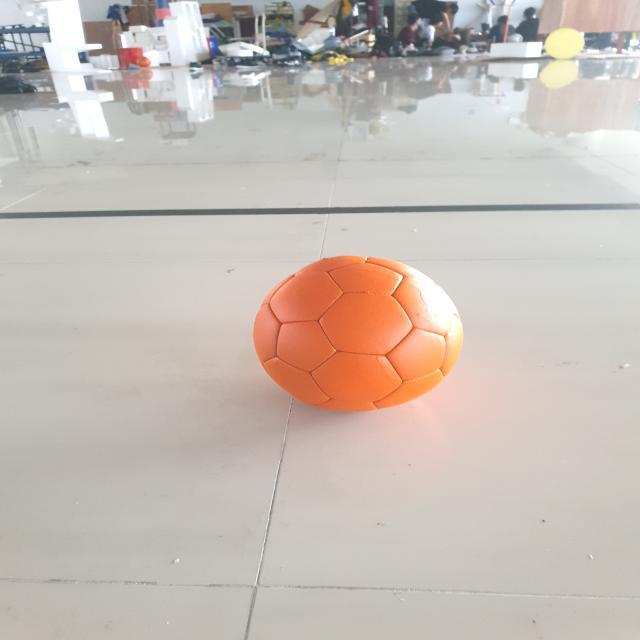bola: (212, 237, 476, 422)
